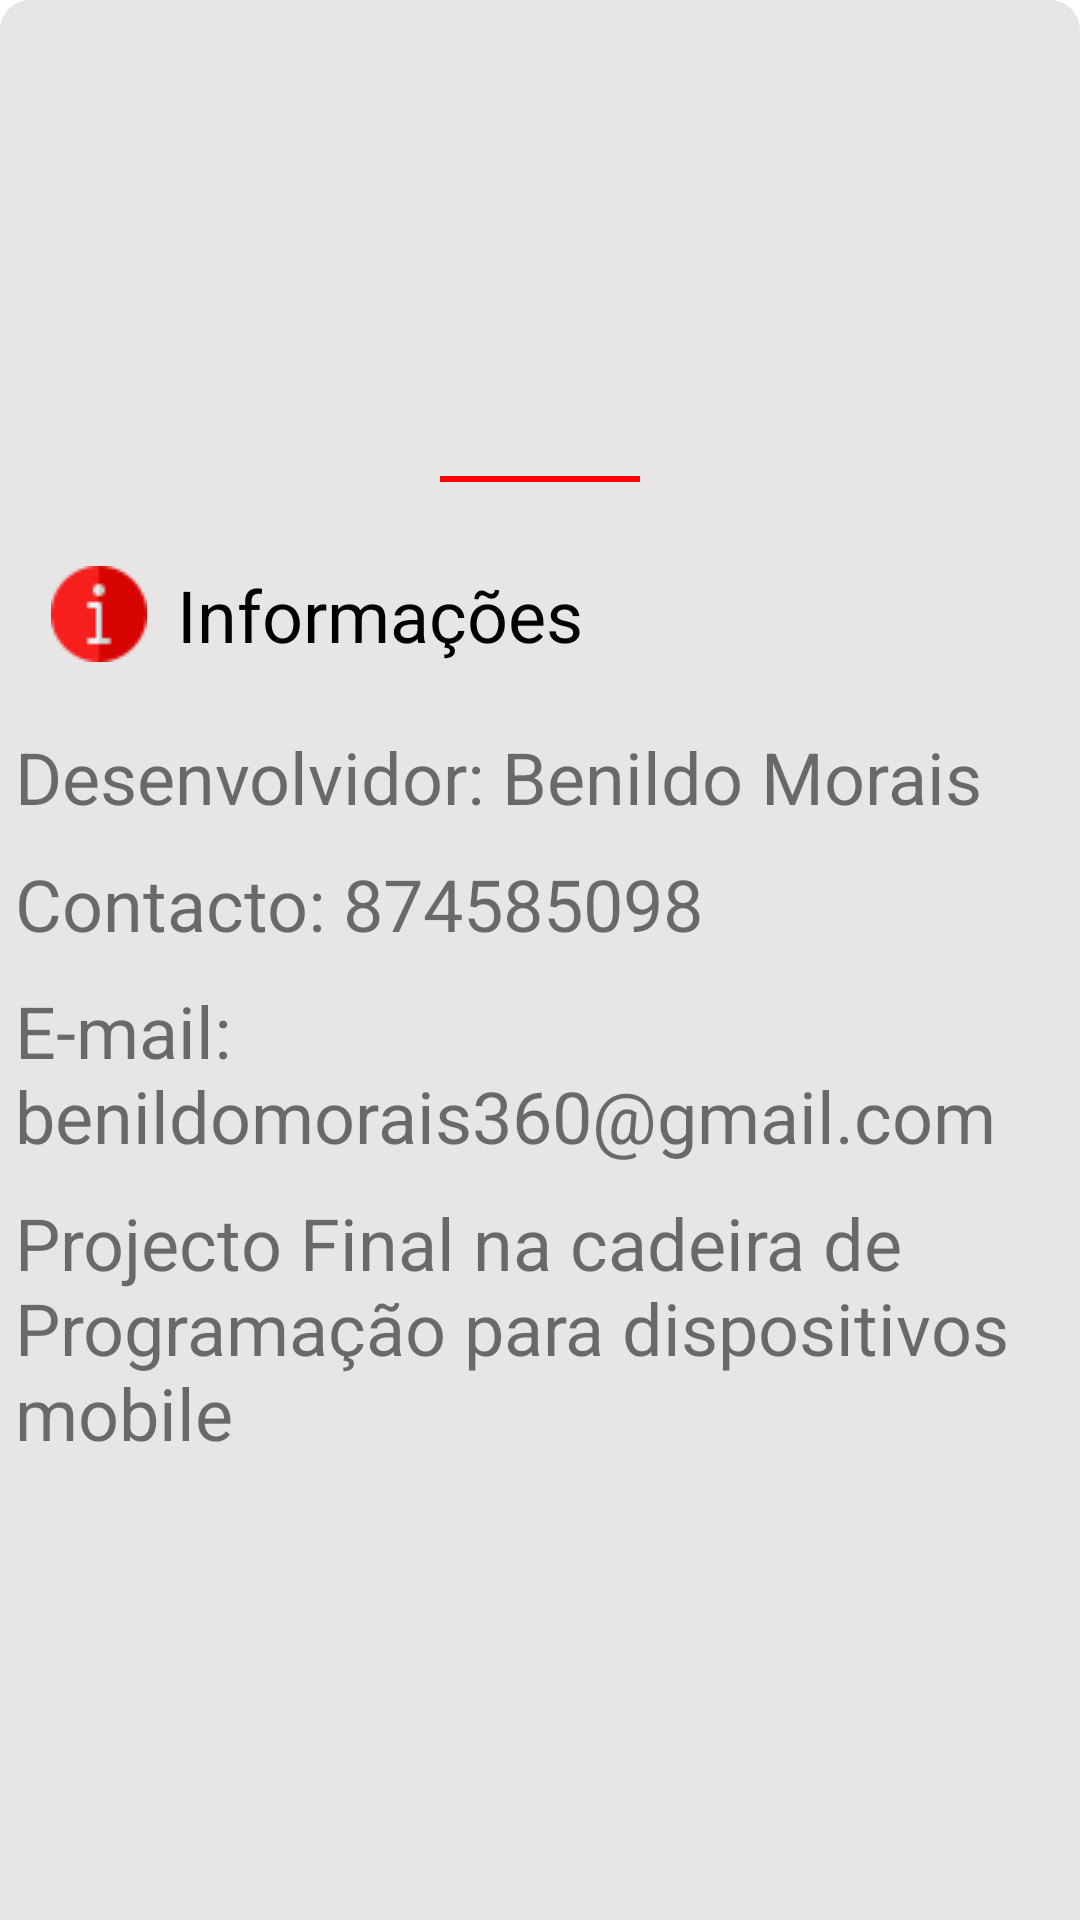

Named icons in this screenshot (1080 × 1920) and their bounding boxes, (x1, y1, x2, y2):
informacoes: (51, 566, 147, 662)
